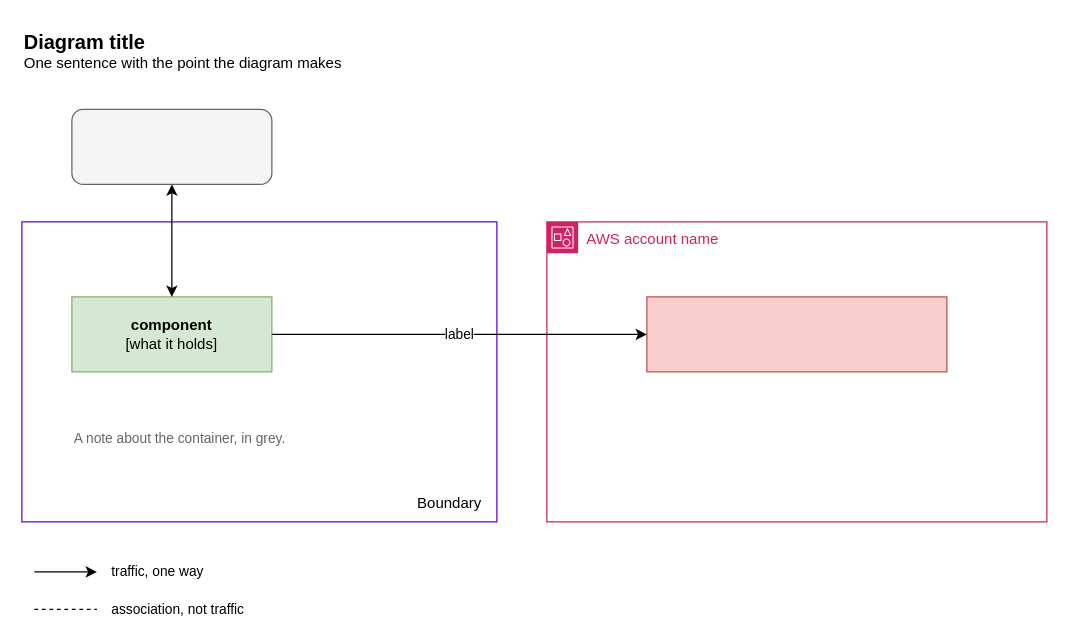
The diagram is 1069 pixels wide and 643 high, and some of its shapes have lost their labels. Each missing label, with the box of its shape:
Outside system [what it is]: (71, 108, 272, 184)
Resource [detail]: (646, 296, 947, 372)
